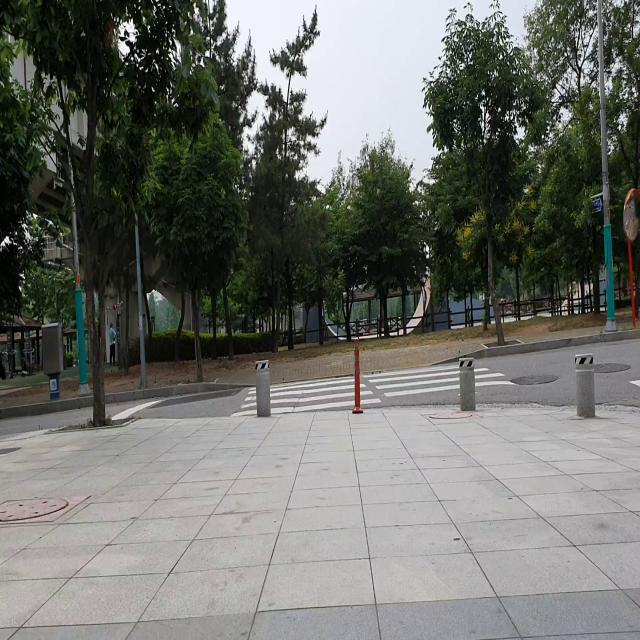횡단보도: (229, 363, 519, 421)
